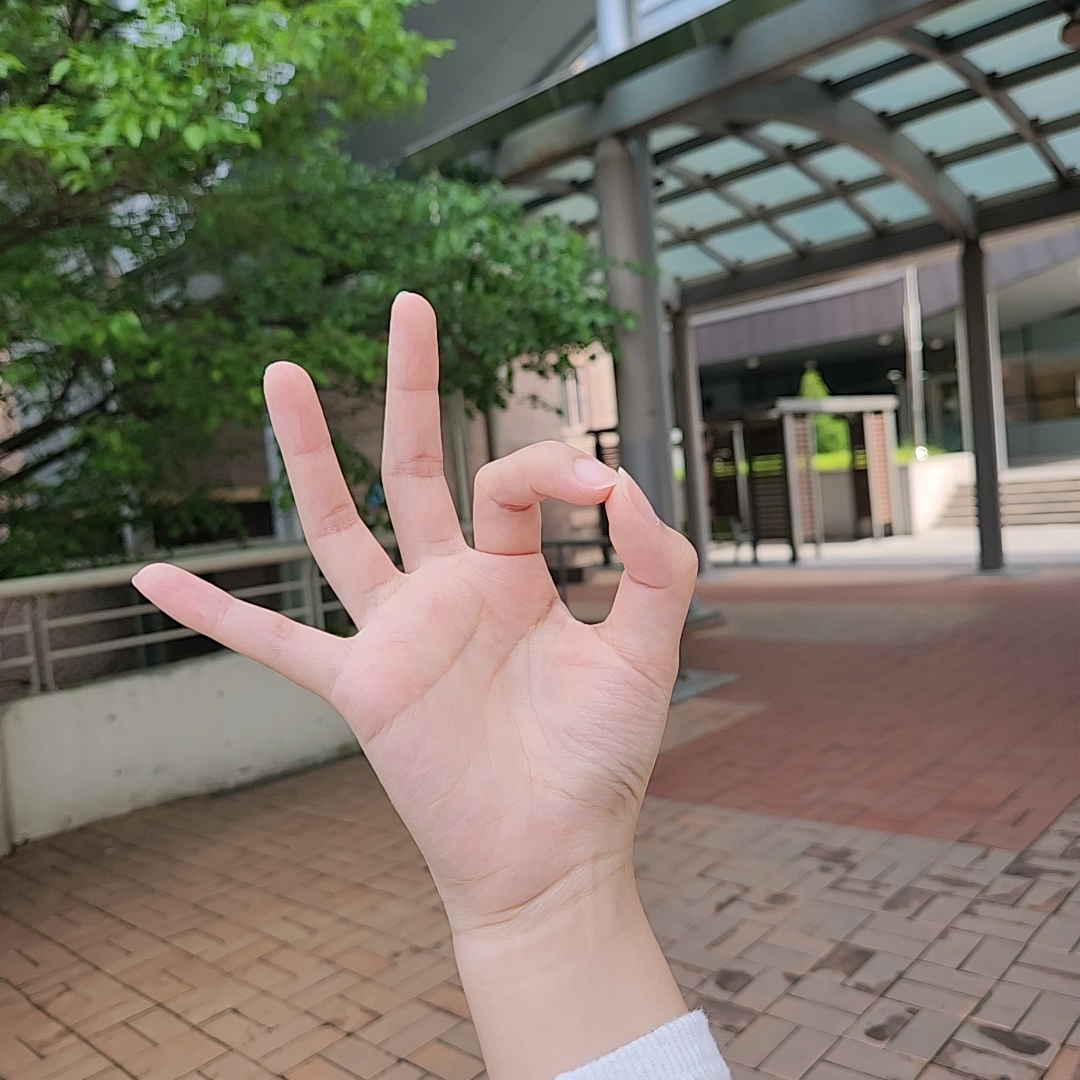see: (130, 290, 701, 876)
